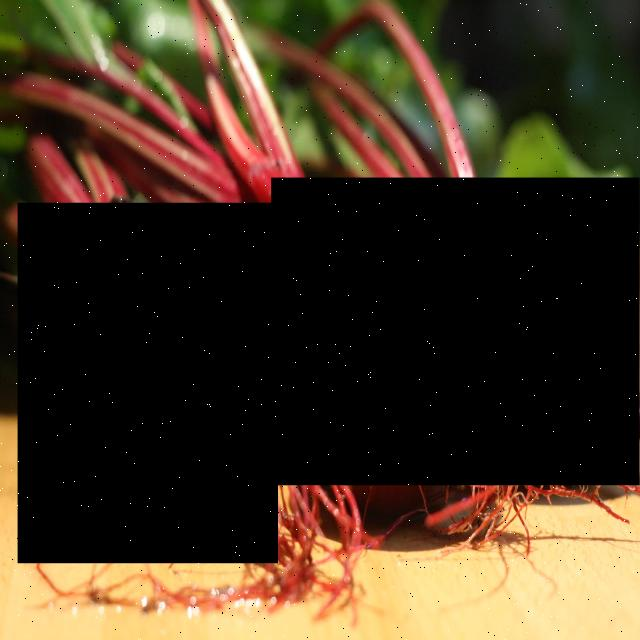Beetroot: (271, 178, 640, 485), (18, 203, 278, 563)
